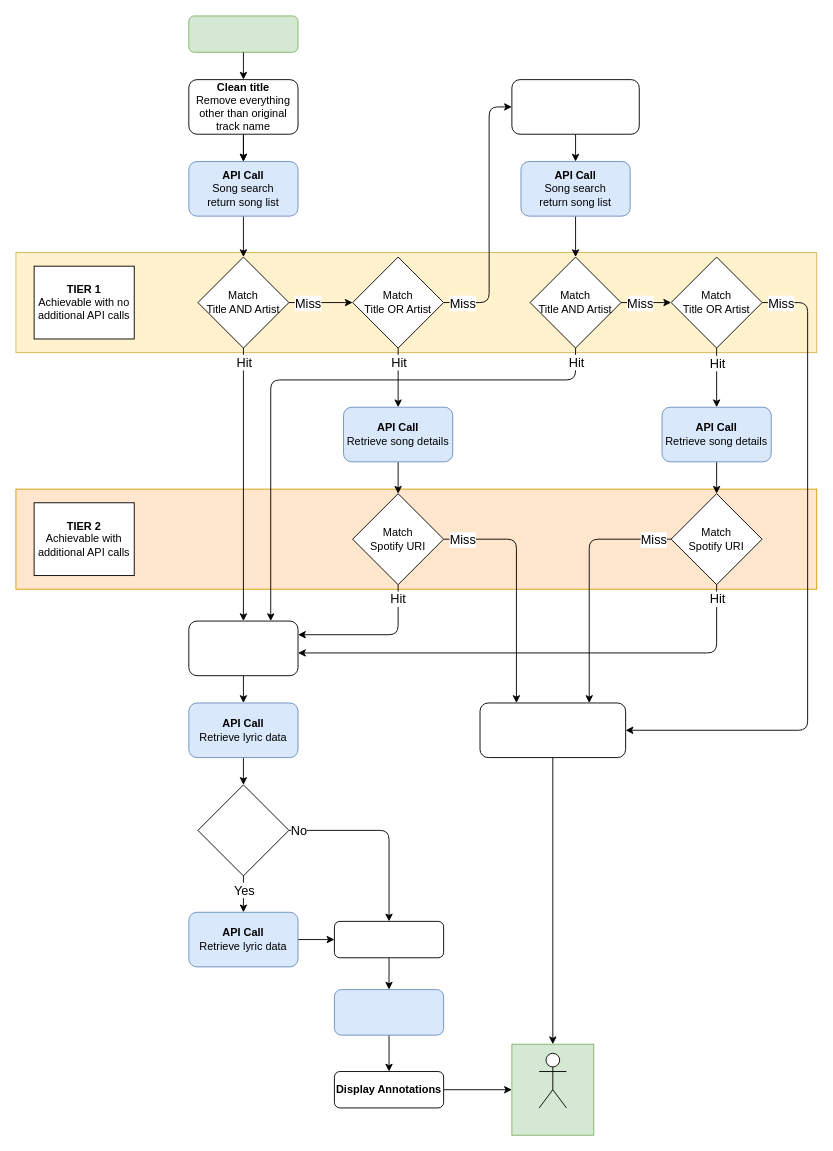
Some shapes in this 833 by 1151 pixel diagram are drawn without their labels. Here are the shapes that lost their labels. From the top down, the centre of each, then its label:
the point at 243,33: Get spotify data
the point at 575,106: Fallback Search Genius using uncleaned track name
the point at 243,648: Match accepted!
the point at 552,730: No match found Inform user
the point at 243,830: Translation Requested
the point at 389,939: Display Lyrics
the point at 389,1012: API Call Retrieve Annotations
the point at 552,1080: Music Enjoyer
